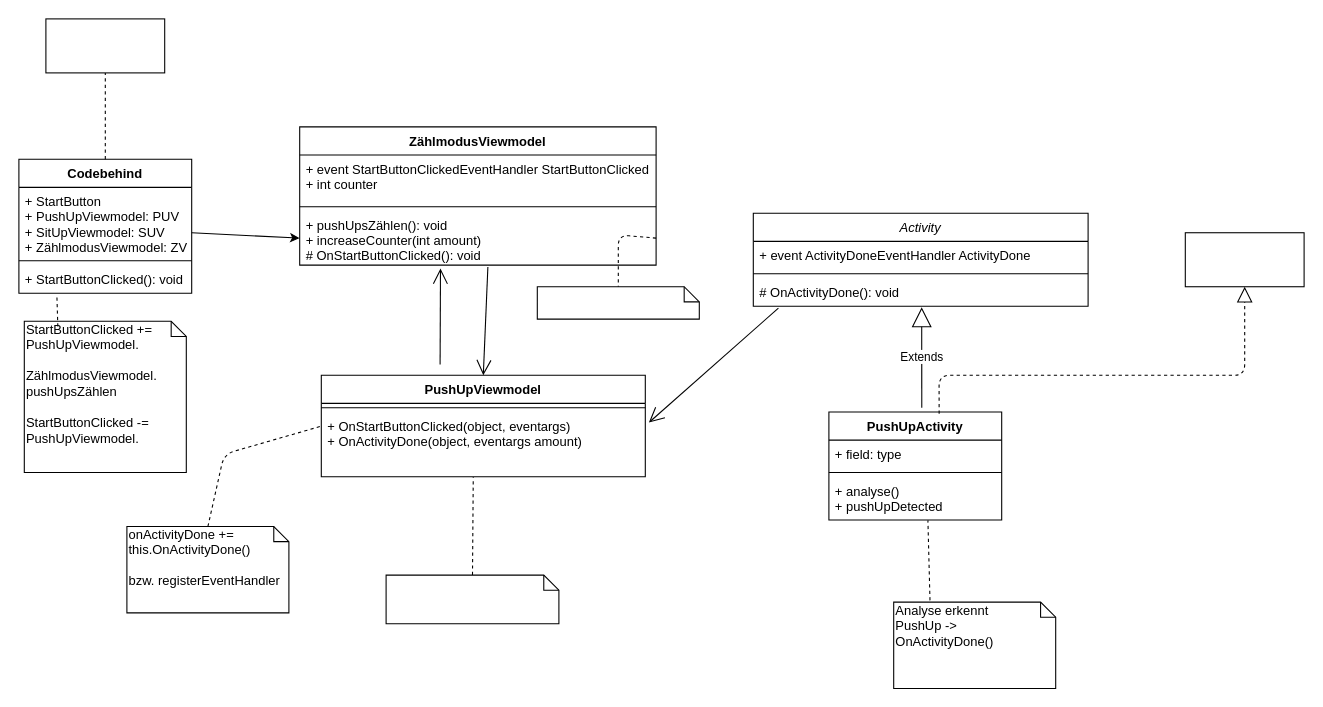
Image size: 1323x707. Some labels were removed from this diagram. Here are the shapes that lost their labels. From the top down, the centre of each, then its label:
At (x=105, y=45): "ZählmodusView".
At (x=1244, y=259): "«interface» IPushUpActivity".
At (x=617, y=302): "OnStartButtonClicked()".
At (x=472, y=599): "ZählmodusViewmodel. increaseCounter(int amount)".
